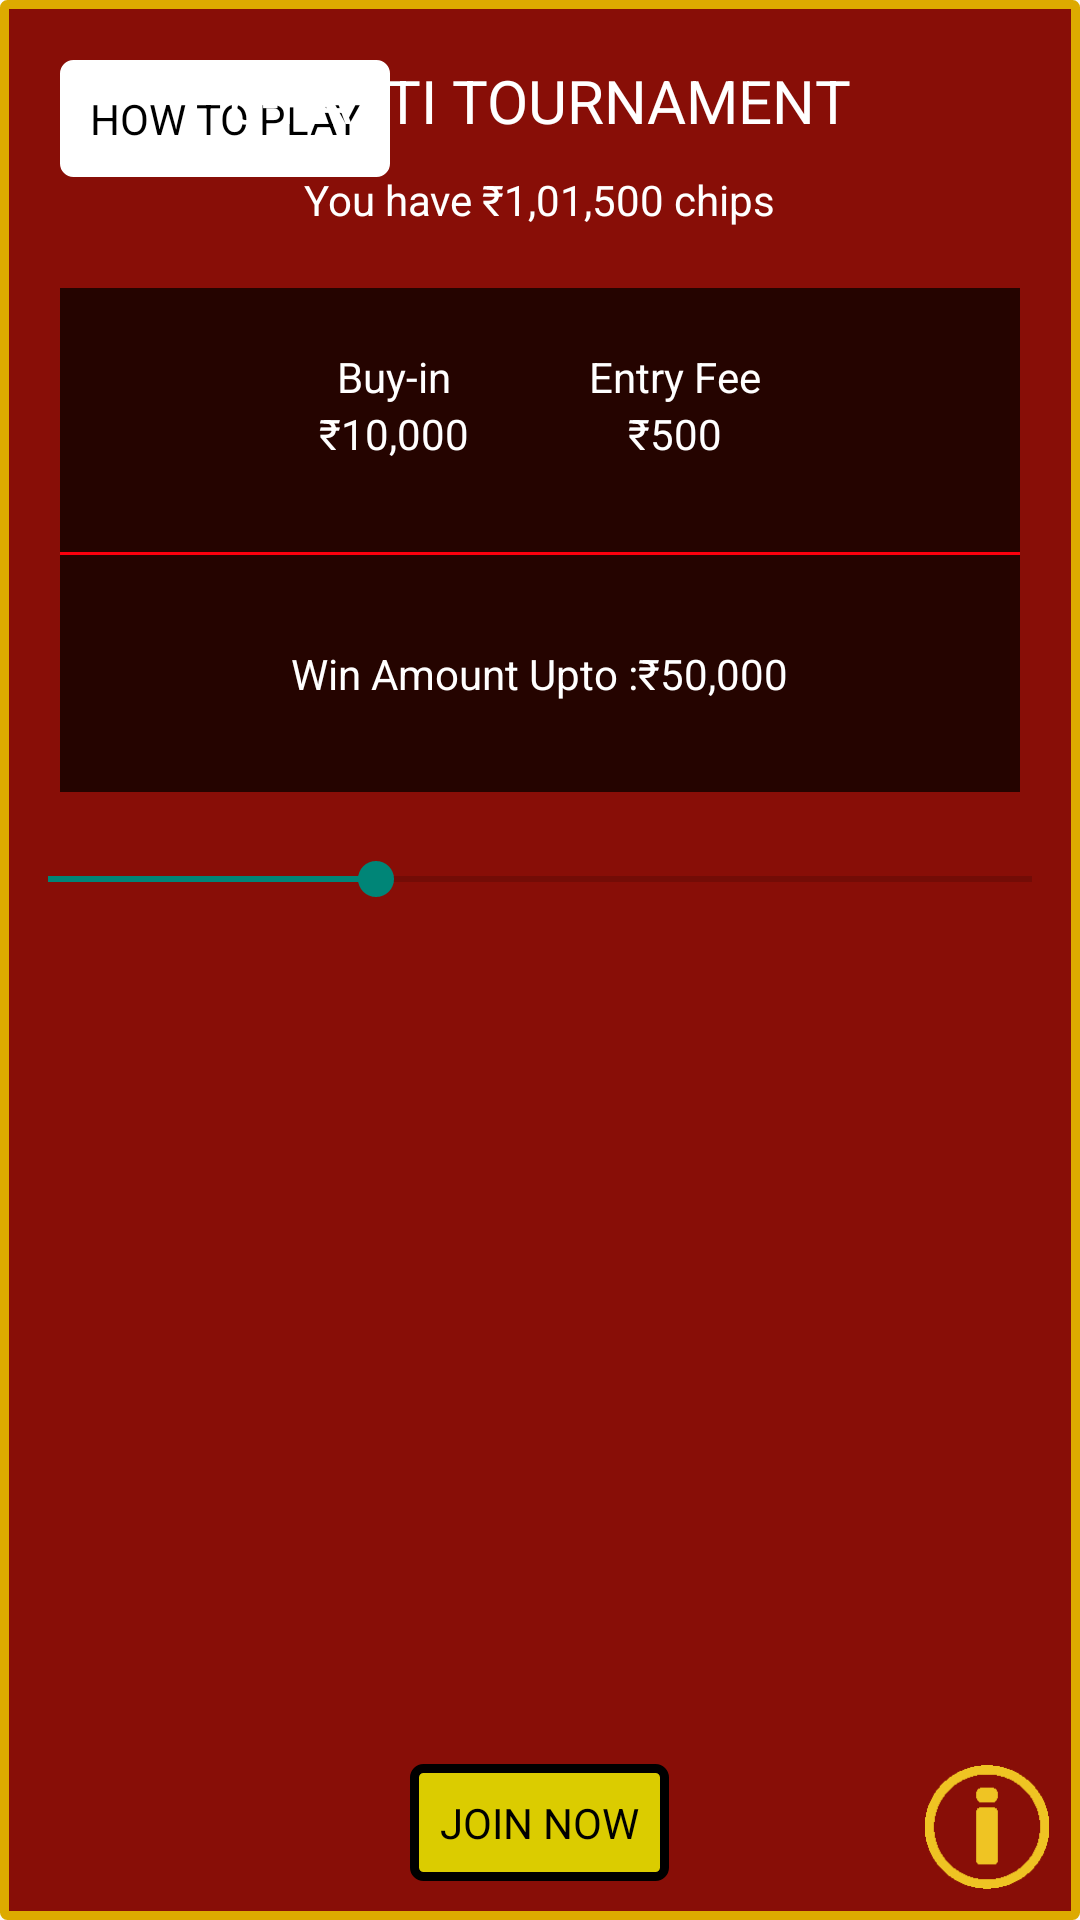

Named icons in this screenshot (1080w x 1920h) and their centers, (x,y):
infogame: (987,1827)
